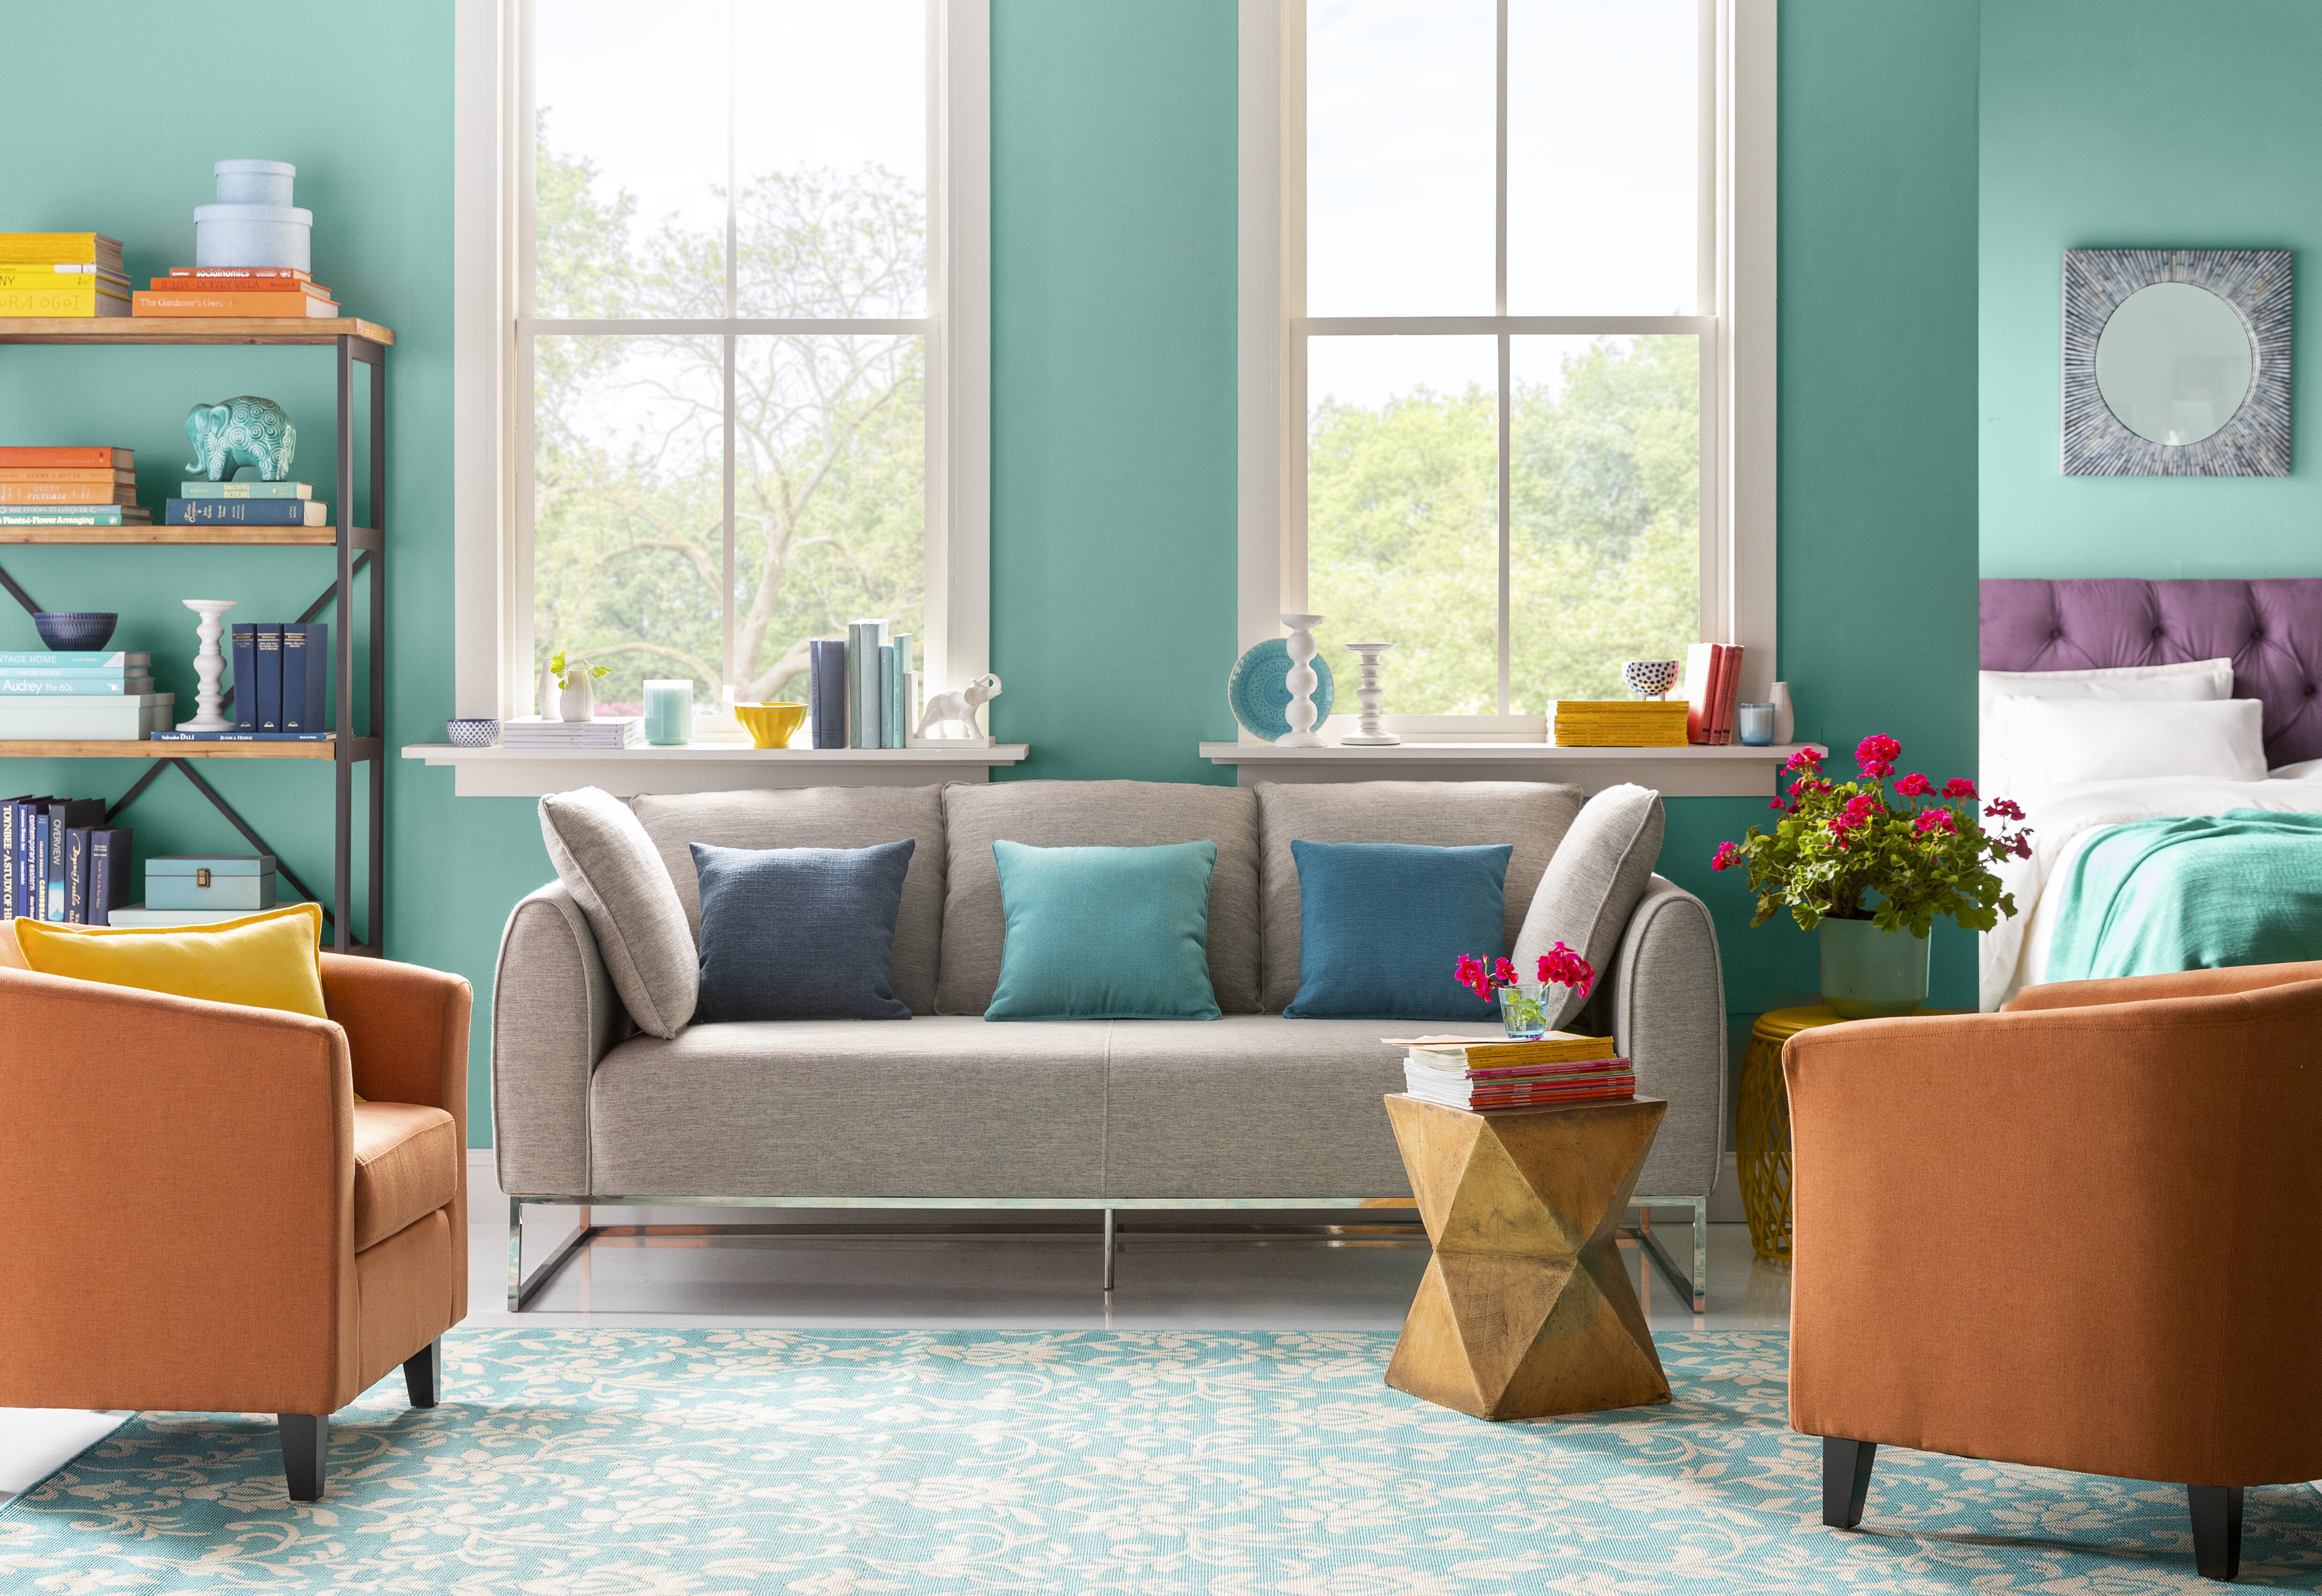biru: (2066, 801, 2322, 972), (999, 843, 1207, 1018), (1315, 838, 1523, 1011), (4, 802, 111, 919), (184, 400, 302, 487), (236, 621, 321, 730), (2, 649, 143, 695)
kuning: (18, 919, 335, 1009), (0, 231, 122, 319), (1549, 700, 1694, 744), (739, 698, 806, 753)
orange: (136, 257, 318, 328), (0, 441, 136, 517)
